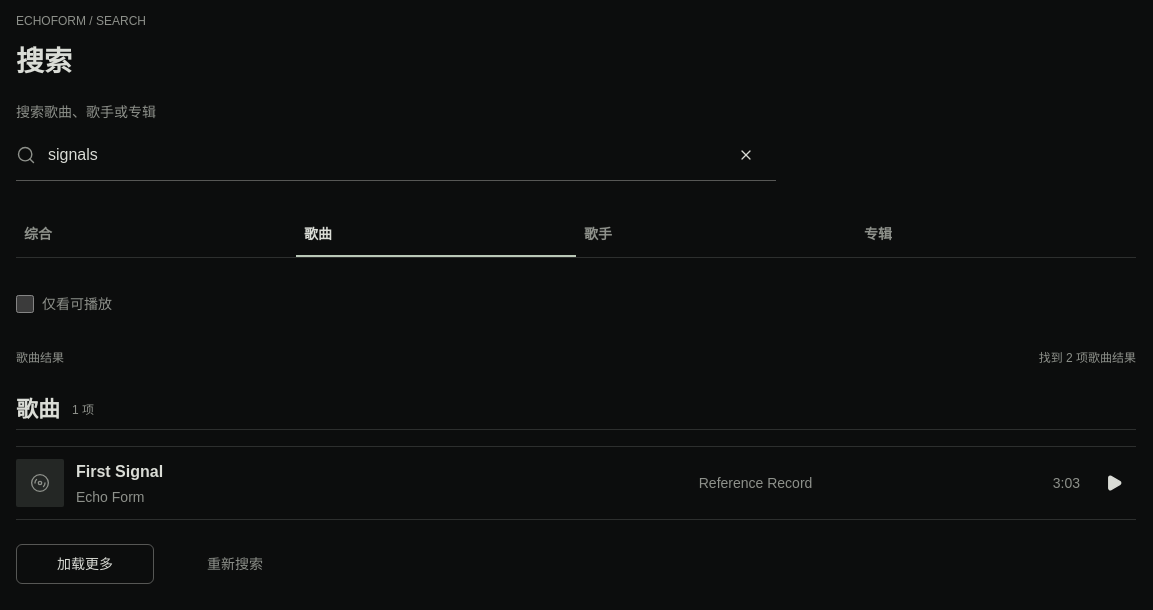
Test: SearchExperience › pages a single-type search without clearing loaded tracks and restores route query/type
Check: the text "First Signal" is shown, box top-left (76, 460), bottom-right (163, 484)
Check: the search field labelled "搜索歌曲、歌手或专辑" holds "signals", box top-left (48, 142), bottom-right (716, 166)
Click the button "加载更多" at (85, 564), box top-left (16, 544), bottom-right (154, 584)
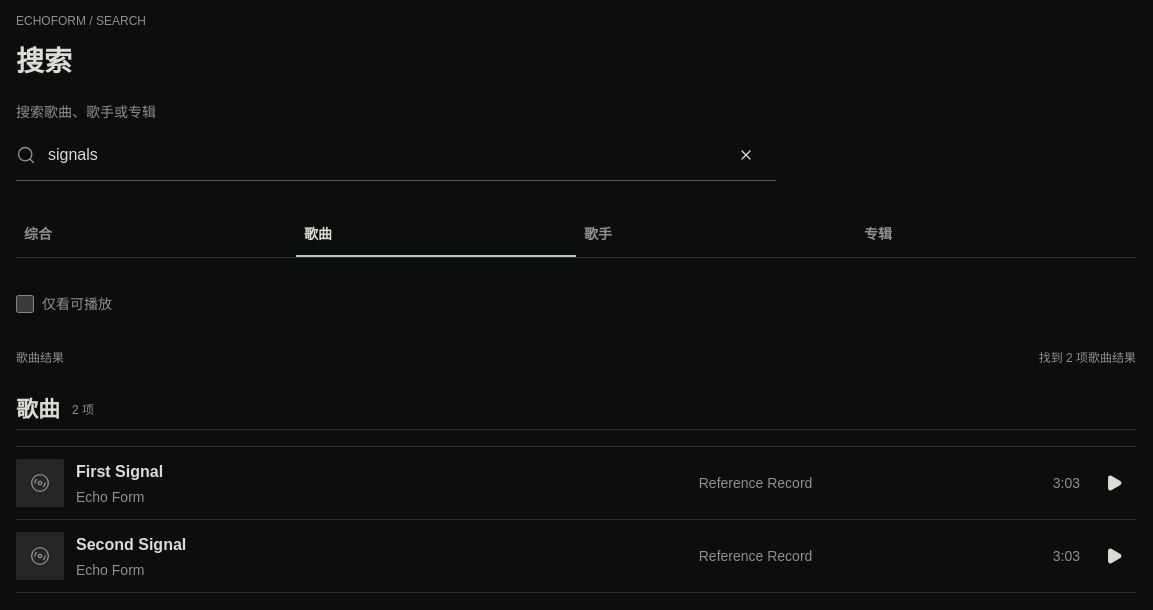
Check: the text "First Signal" is shown, box top-left (76, 460), bottom-right (163, 484)
Check: the text "Second Signal" is shown, box top-left (76, 533), bottom-right (186, 557)
